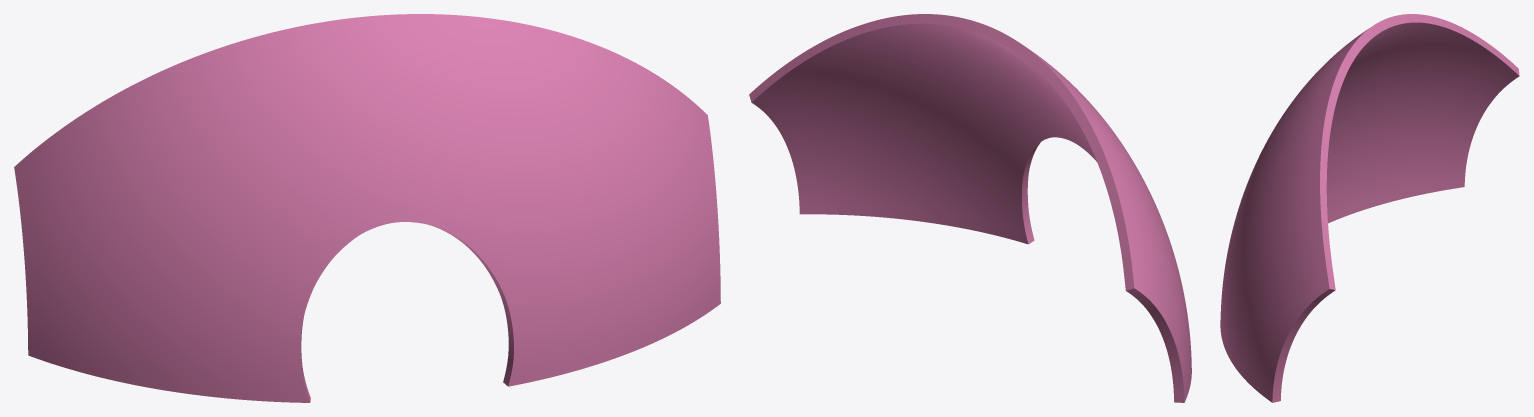
File: halfR_2.fbx
3 renders of one model, left to right at view 1: azimuth 30°, elevation 25°; view 2: azimuth 150°, elevation 25°; view 3: azimuth 270°, elevation 25°, orthographic. The views are drawn at different scales.
Visible parts, largest first — view 1: Wall_Circle1; view 2: Wall_Circle1; view 3: Wall_Circle1.
Part boxes in pixels (box(x1,y1,x2,y2)): Wall_Circle1: box(14, 14, 720, 402); Wall_Circle1: box(749, 14, 1191, 402); Wall_Circle1: box(1220, 14, 1519, 402).
Size of the model in its own units: 525 by 290 by 269.
